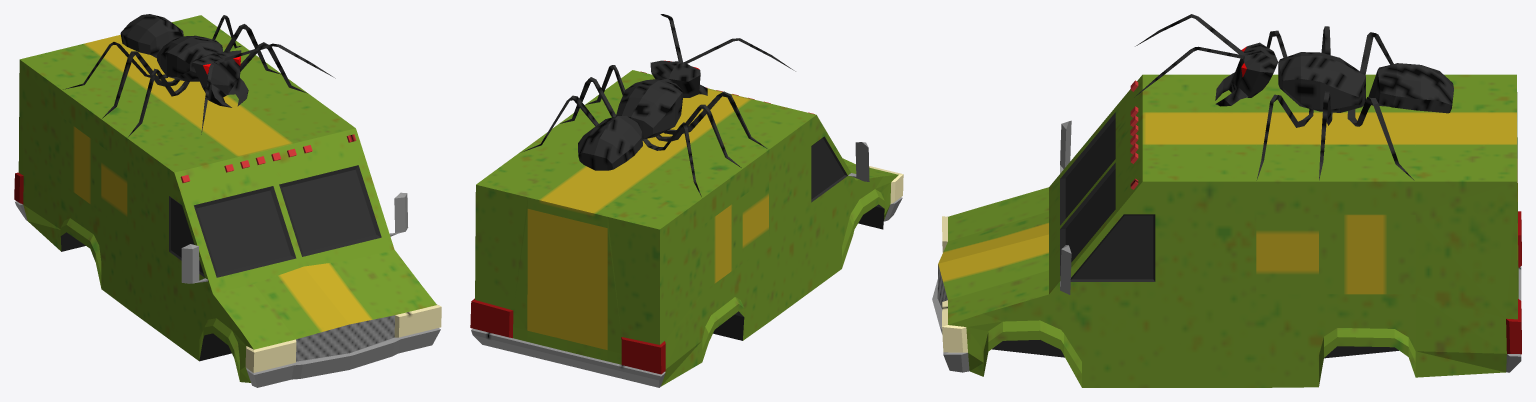
File: Fumigator.fbx
The picture shows the model from 3 angles, left to right: view 1: azimuth 30°, elevation 25°; view 2: azimuth 150°, elevation 25°; view 3: azimuth 270°, elevation 25°; orthographic projection. The views are drawn at different scales.
Parts seen in each view (by area): view 1: El Camino.003; view 2: El Camino.003; view 3: El Camino.003.
Part boxes in pixels (x1,y1,x2,y2): El Camino.003: (14,14,441,387); El Camino.003: (470,14,903,387); El Camino.003: (932,14,1521,387).
Bounding box in the file's own units: 350 × 373 × 653.
